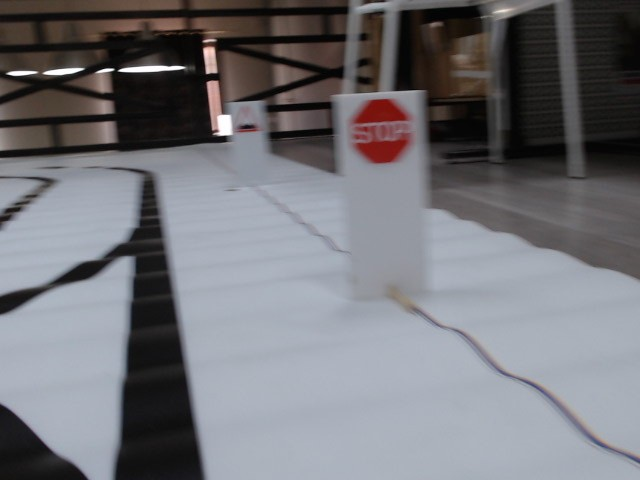Nerov: (235, 106, 263, 134)
Stop: (350, 99, 416, 163)
